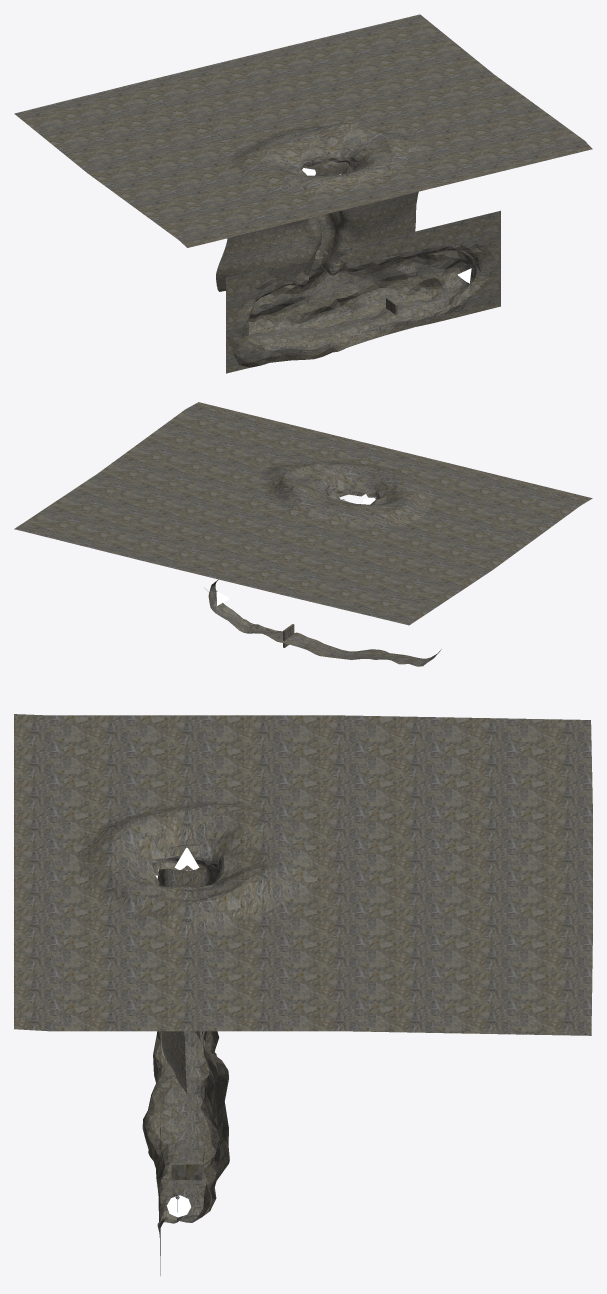
File: map1.glb
3 renders of one model, top to bottom at view 1: azimuth 30°, elevation 25°; view 2: azimuth 150°, elevation 25°; view 3: azimuth 270°, elevation 25°, orthographic. The views are drawn at different scales.
Parts seen in each view (by area): view 1: surface, cave, tunnel; view 2: surface, cave; view 3: surface, cave, tunnel.
Boxes of the visible parts, x1,y1,x2,y2 form: surface: (14, 14, 592, 247); cave: (226, 210, 500, 373); tunnel: (216, 149, 418, 291); surface: (14, 402, 592, 625); cave: (204, 579, 441, 666); surface: (14, 714, 592, 1035); cave: (142, 1031, 229, 1275); tunnel: (157, 862, 218, 1093).
Size of what is drawn, in the model's own units: 452 by 203 by 344.
Materials: 3 (2 with a texture image).
